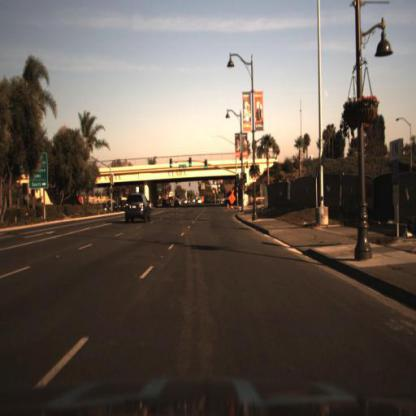car: (125, 191, 153, 228)
trafficLight-Green: (168, 156, 175, 172), (204, 158, 211, 174), (187, 158, 195, 170), (169, 157, 174, 173), (204, 159, 209, 174), (189, 157, 194, 169)
